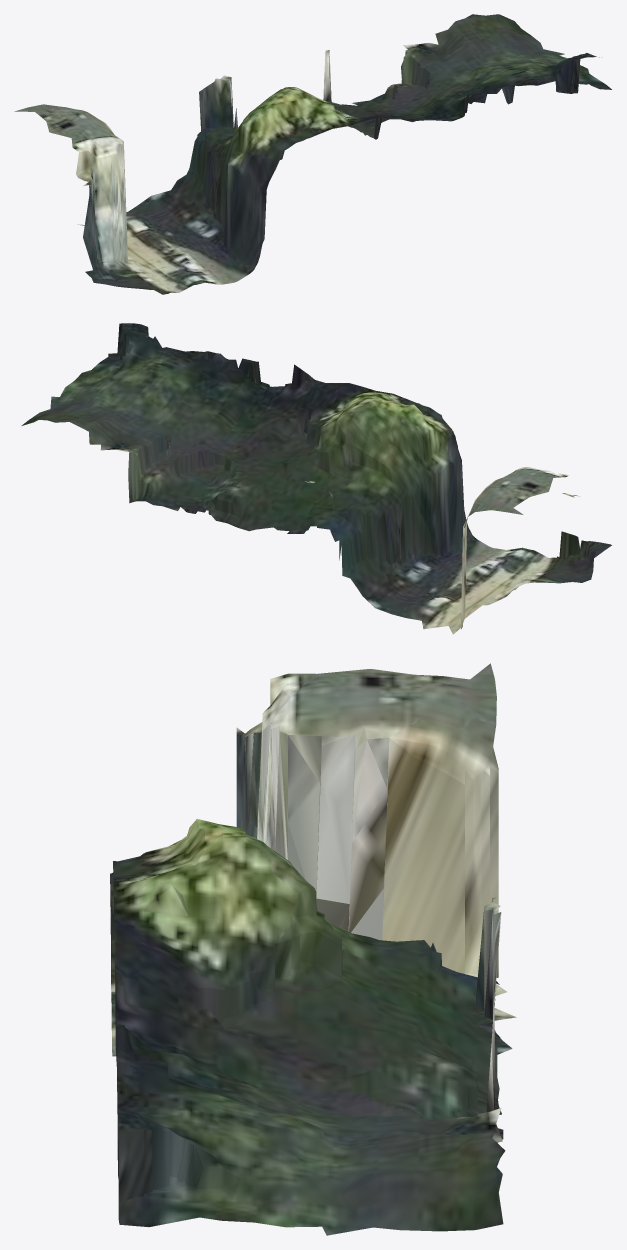
Rendered from Tile_003_003_L14_113.glb.
The picture shows the model from 3 angles, top to bottom: view 1: azimuth 30°, elevation 25°; view 2: azimuth 150°, elevation 25°; view 3: azimuth 270°, elevation 25°; orthographic projection. The views are drawn at different scales.
Visible parts, largest first — view 1: rtc; view 2: rtc; view 3: rtc.
Boxes of the visible parts, x1=… form: rtc: x1=14, y1=14, x2=611, y2=294; rtc: x1=21, y1=323, x2=611, y2=634; rtc: x1=110, y1=663, x2=516, y2=1235.
Bounding box in the file's own units: 70.05 × 19.42 × 24.18.
Materials: 1 (1 with a texture image).
